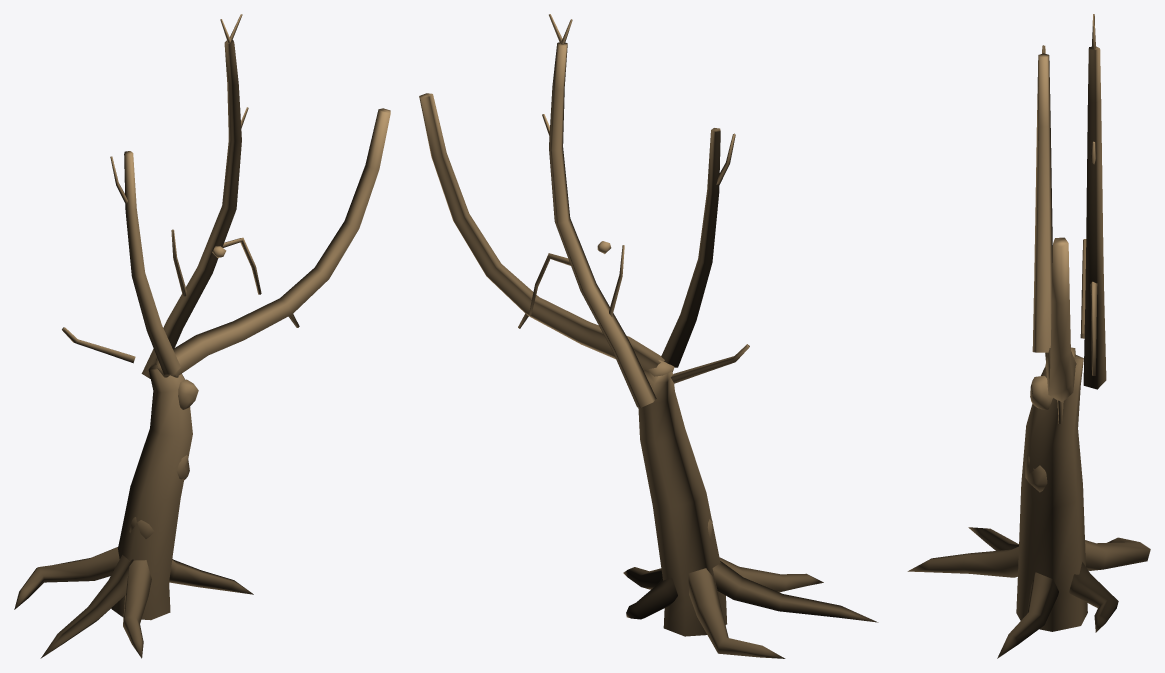
Rendered from dead-tree-desert.glb.
3 views of the same model, side by side, from view 1: azimuth 30°, elevation 25°; view 2: azimuth 150°, elevation 25°; view 3: azimuth 270°, elevation 25° (orthographic). The views are drawn at different scales.
Visible parts, largest first — view 1: dead-tree-desert; view 2: dead-tree-desert; view 3: dead-tree-desert.
Boxes of the visible parts, box(x1,y1,x2,y2) form: dead-tree-desert: box(14, 14, 390, 658); dead-tree-desert: box(419, 14, 878, 658); dead-tree-desert: box(907, 14, 1150, 658).
Size of the model in its own units: 3.22 by 4.36 by 1.46.
